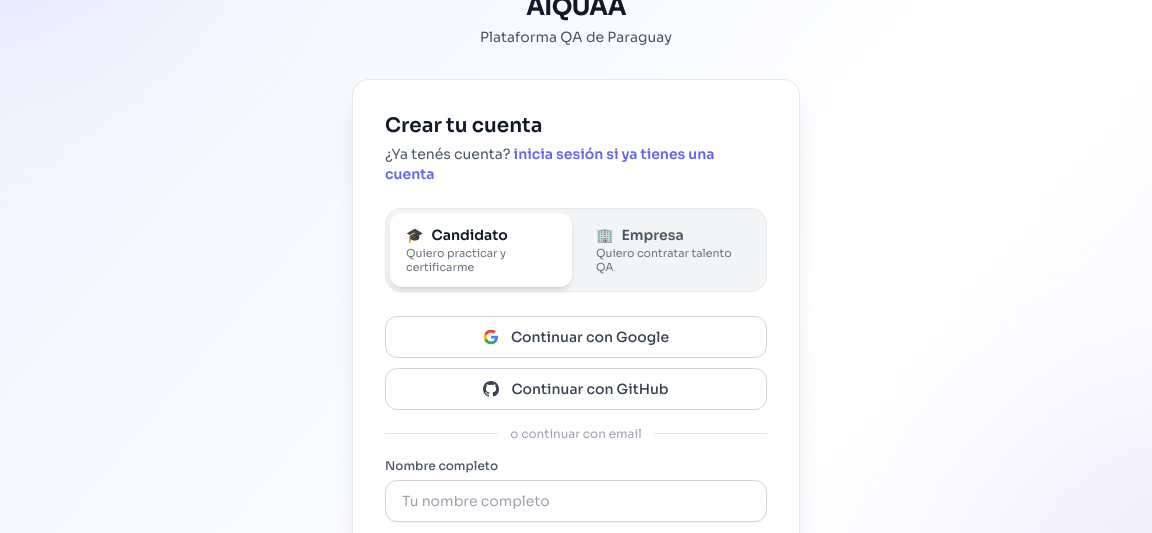
Test: RegisterForm › Form Validation › muestra error si la contraseña es muy corta
Type "John Doe" into the field labelled "Nombre completo" at (576, 500), box [385,480,767,522]
(page scrolled)
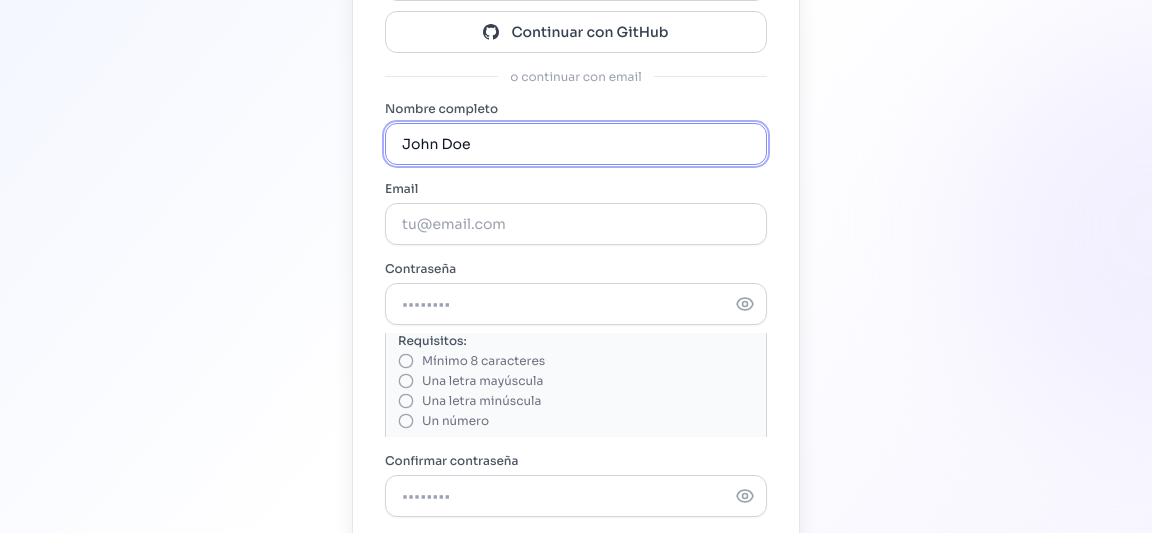
Type "john@example.com" into the field labelled "Email" at (576, 224), box [385,202,767,244]
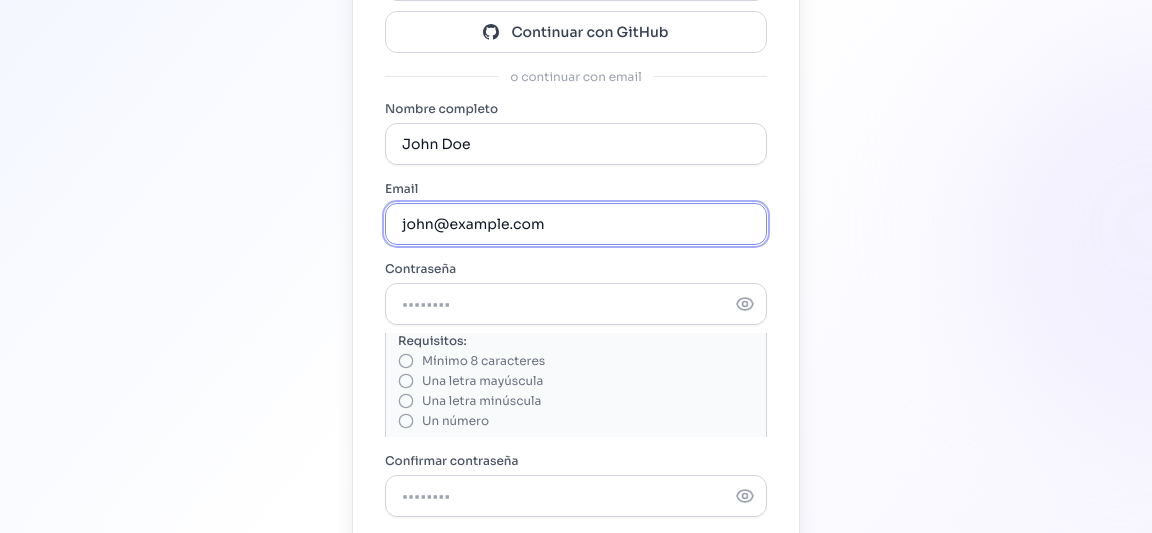
Type "Short1" into the password field labelled "Contraseña" at (576, 304), box [385,282,767,324]
(page scrolled)
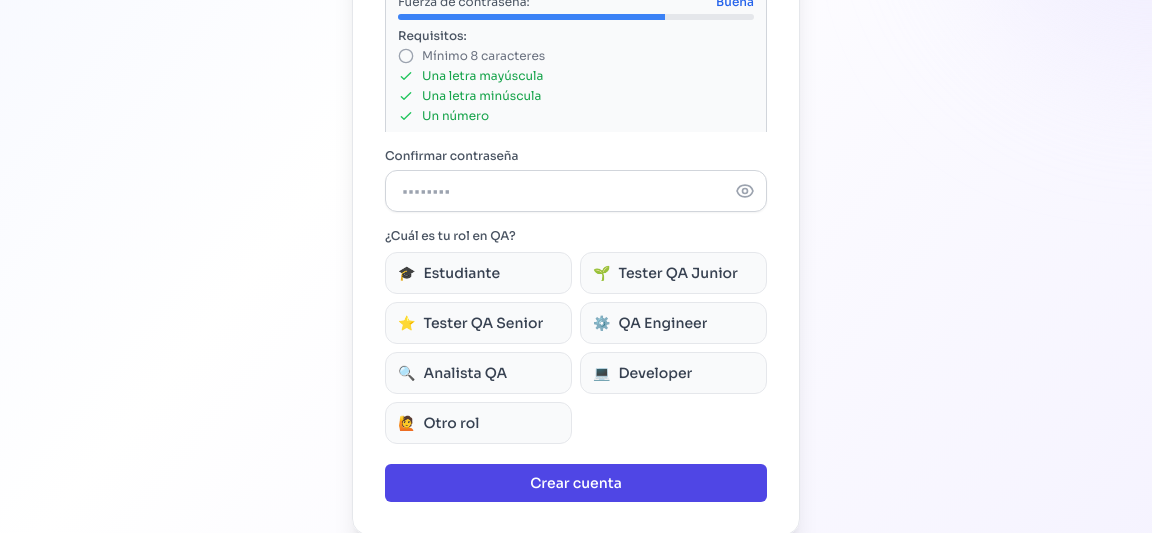
Click the button "Crear cuenta" at (576, 482), box [385,464,767,502]
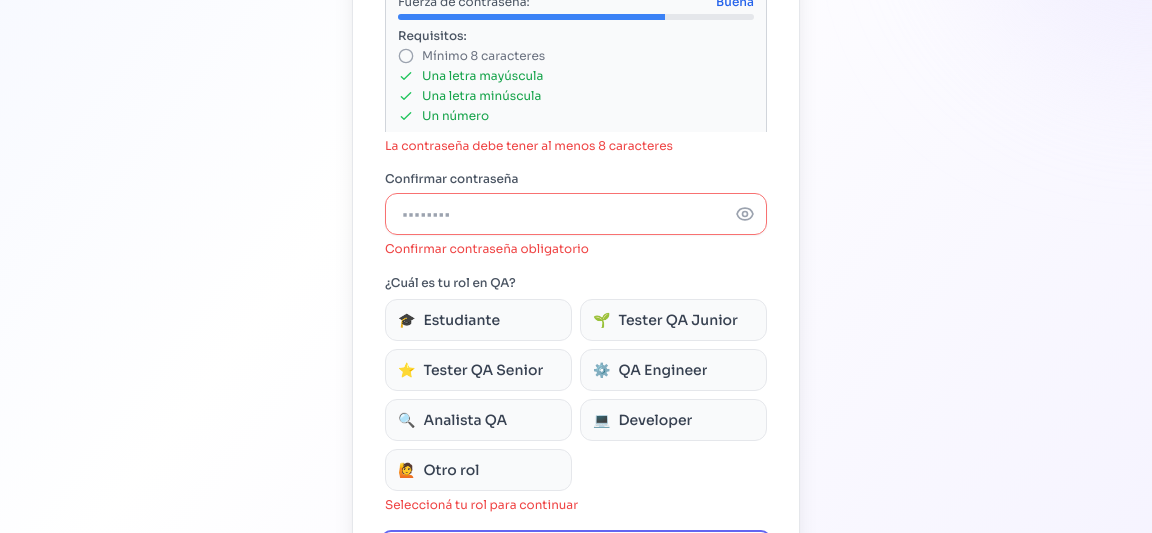
Expected: the text "La contraseña debe tener al menos 8 caracteres" is shown, [385,138,673,152]
